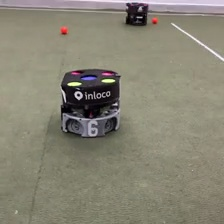ball: (60, 25, 68, 34), (151, 16, 158, 24)
robot: (57, 66, 122, 137), (124, 1, 149, 26)
